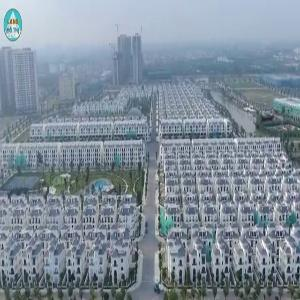drone: (245, 96, 295, 146)
